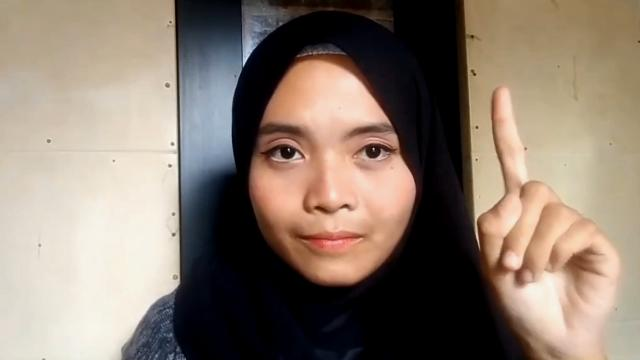D: (474, 84, 622, 344)
